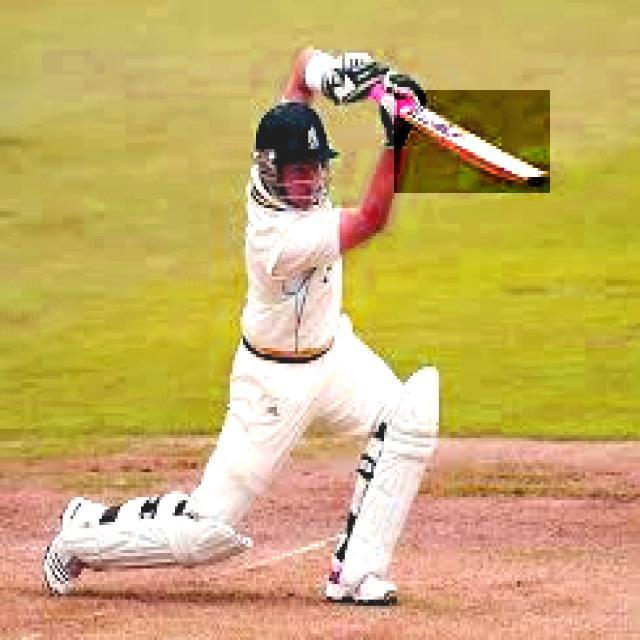bat: (394, 90, 551, 193)
toe: (523, 174, 551, 191)
